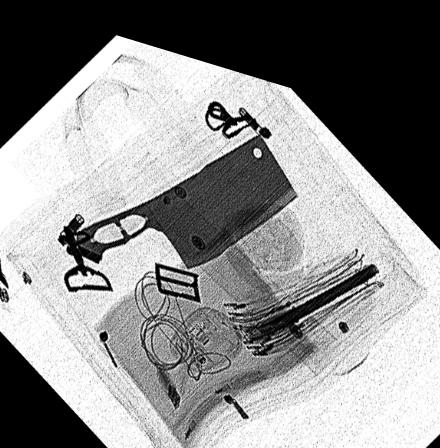Knife: (72, 115, 298, 259)
